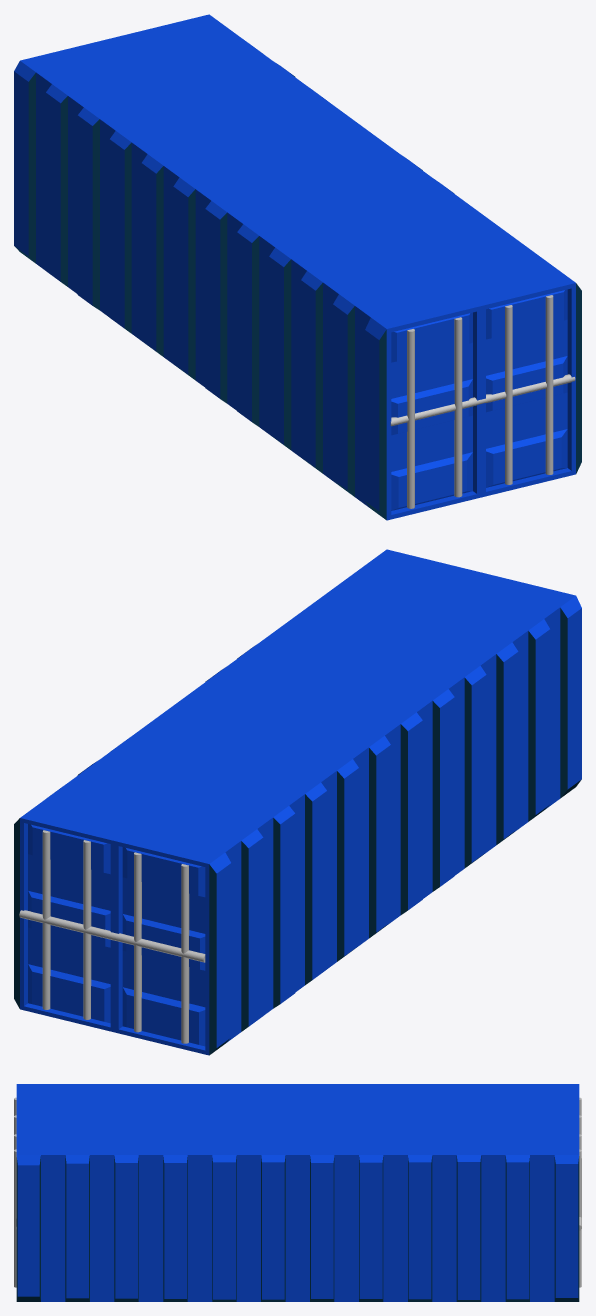
File: ContainerDetailed.fbx
The picture shows the model from 3 angles, top to bottom: view 1: azimuth 30°, elevation 25°; view 2: azimuth 150°, elevation 25°; view 3: azimuth 270°, elevation 25°; orthographic projection. The views are drawn at different scales.
Parts seen in each view (by area): view 1: Cube, Cylinder.001, Cylinder.003, Cylinder.002, Cylinder, Cylinder.009; view 2: Cube, Cylinder.008, Cylinder.004, Cylinder.005, Cylinder.007, Cylinder.006; view 3: Cube, Cylinder.003, Cylinder.004.
Part boxes in pixels (x1=…): Cube: x1=14, y1=14, x2=581, y2=520; Cylinder.001: x1=454, y1=317, x2=462, y2=497; Cylinder.003: x1=545, y1=295, x2=553, y2=474; Cylinder.002: x1=505, y1=305, x2=512, y2=484; Cylinder: x1=407, y1=329, x2=414, y2=508; Cylinder.009: x1=390, y1=374, x2=575, y2=426; Cube: x1=14, y1=549, x2=581, y2=1055; Cylinder.008: x1=19, y1=910, x2=205, y2=962; Cylinder.004: x1=42, y1=830, x2=50, y2=1009; Cylinder.005: x1=83, y1=840, x2=91, y2=1019; Cylinder.007: x1=181, y1=864, x2=189, y2=1043; Cylinder.006: x1=134, y1=852, x2=141, y2=1032; Cube: x1=16, y1=1084, x2=579, y2=1301; Cylinder.003: x1=14, y1=1149, x2=16, y2=1287; Cylinder.004: x1=579, y1=1149, x2=581, y2=1287.
Bounding box in the file's own units: 353 × 319 × 1118.
